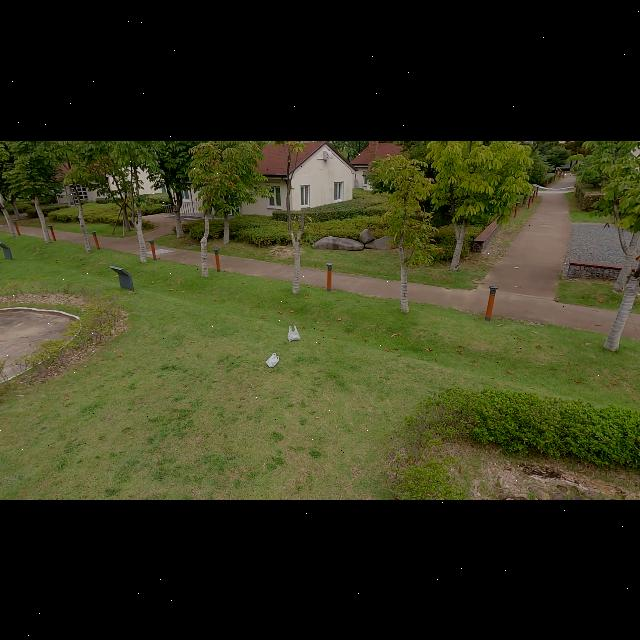trash: (284, 322, 302, 344), (265, 349, 281, 368)
